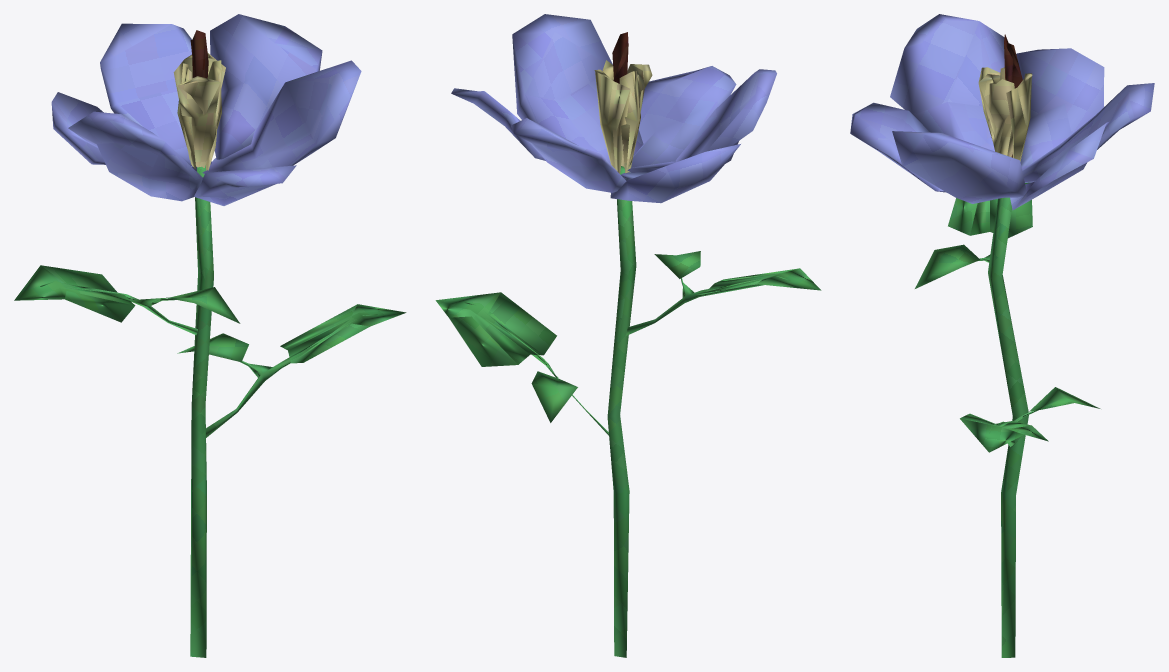
The model's file is blue_lily.fbx.
3 renders of one model, left to right at view 1: azimuth 30°, elevation 25°; view 2: azimuth 150°, elevation 25°; view 3: azimuth 270°, elevation 25°, orthographic.
Visible parts, largest first — view 1: blue_lily; view 2: blue_lily; view 3: blue_lily.
Boxes of the visible parts, bbox=[...] form: blue_lily: bbox=[14, 14, 406, 657]; blue_lily: bbox=[435, 14, 821, 657]; blue_lily: bbox=[850, 14, 1154, 657].
Size of the model in its own units: 30.86 by 47.37 by 21.07.
